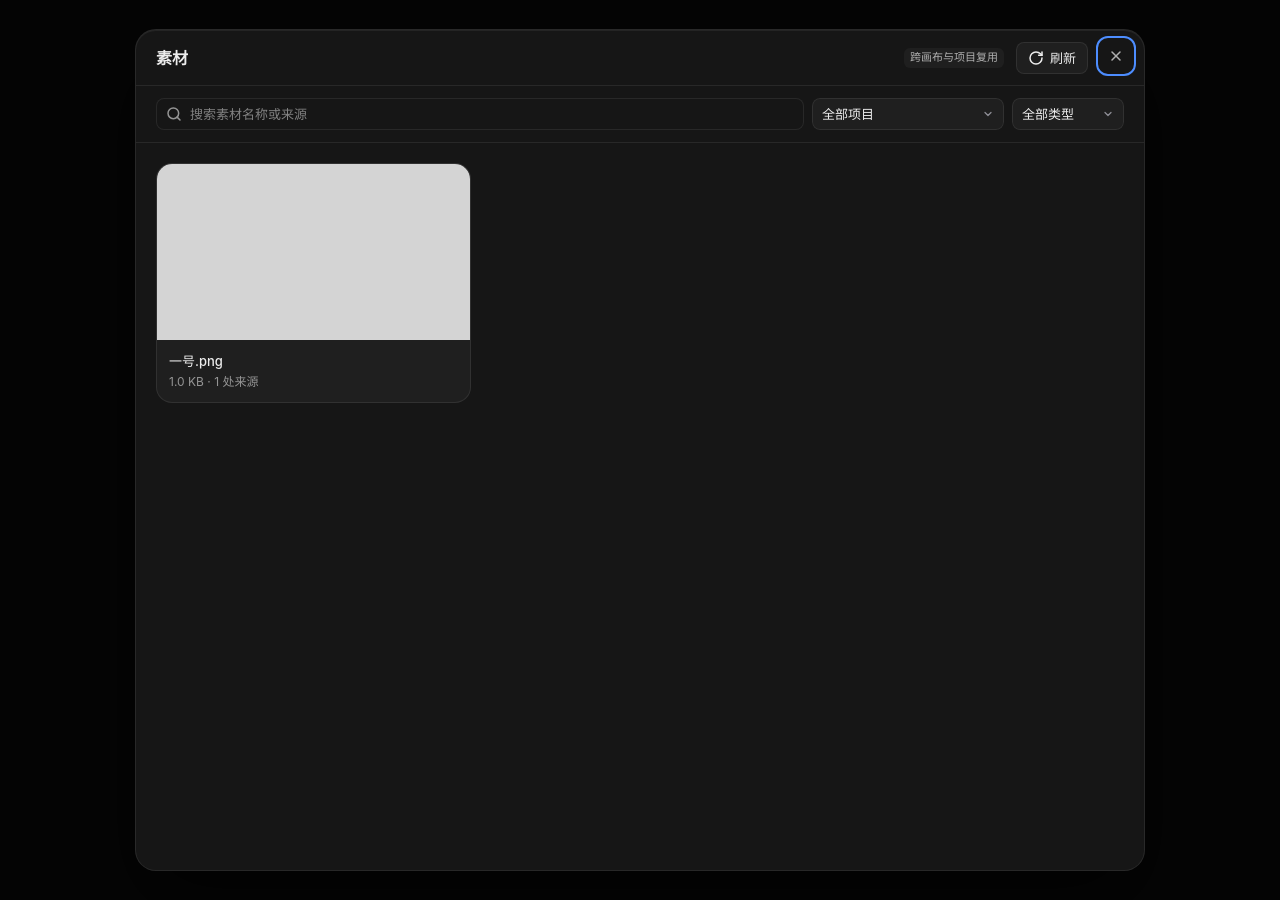
Test: 素材面板的来源 › 来源已不在画布上时说明原因，不提供定位入口
Click the button with aria-label "查看素材 一号.png".
click(313, 283)  # box top-left (156, 163), bottom-right (471, 403)
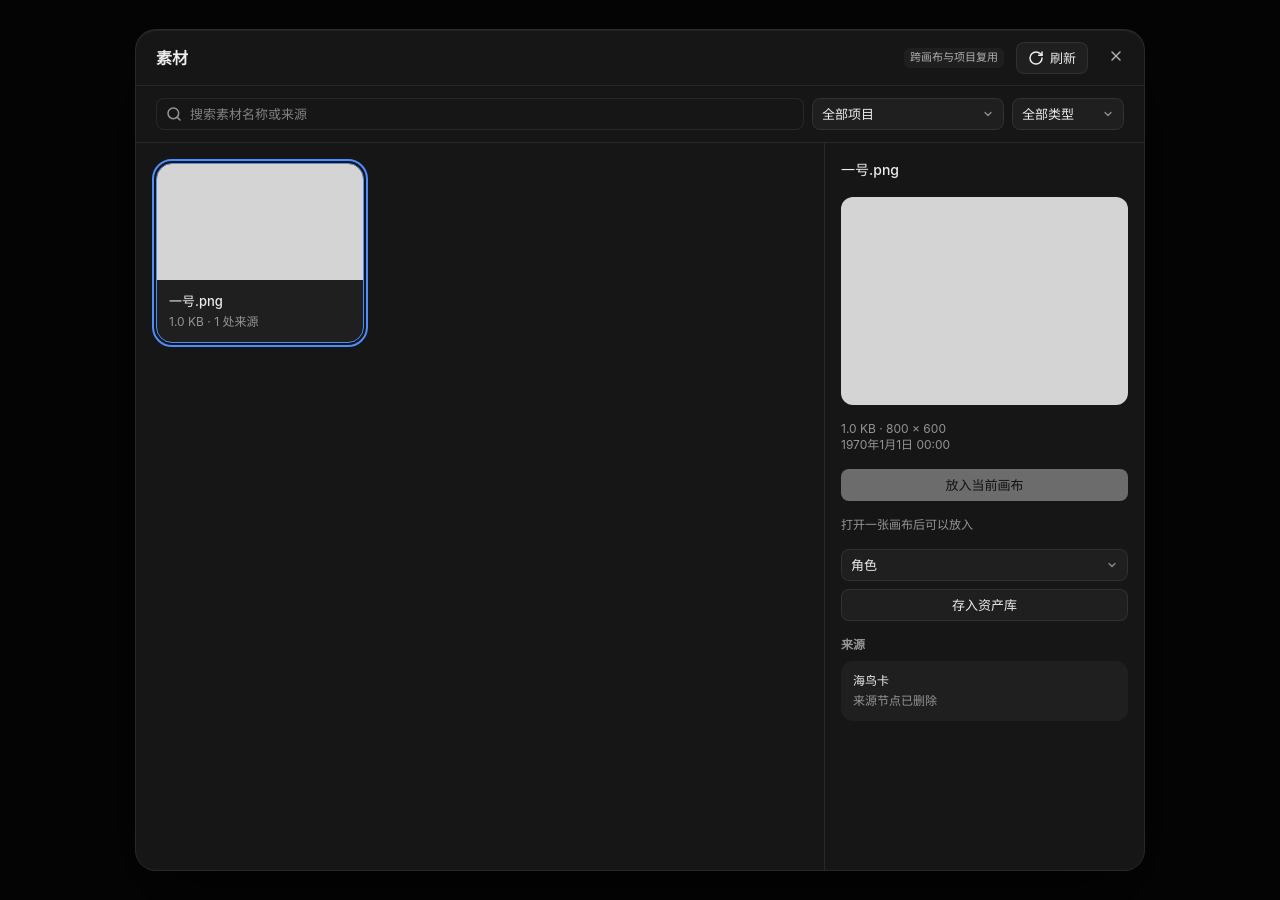
Expected: the text "来源节点已删除" is shown, top-left (853, 693), bottom-right (937, 709)
